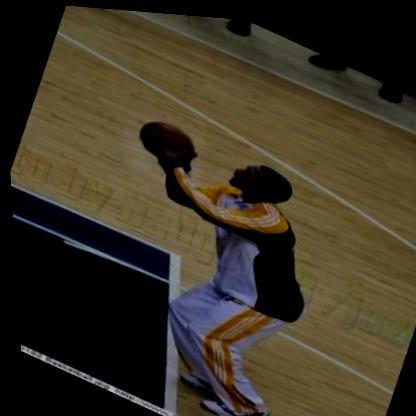basketball: (127, 104, 204, 177)
